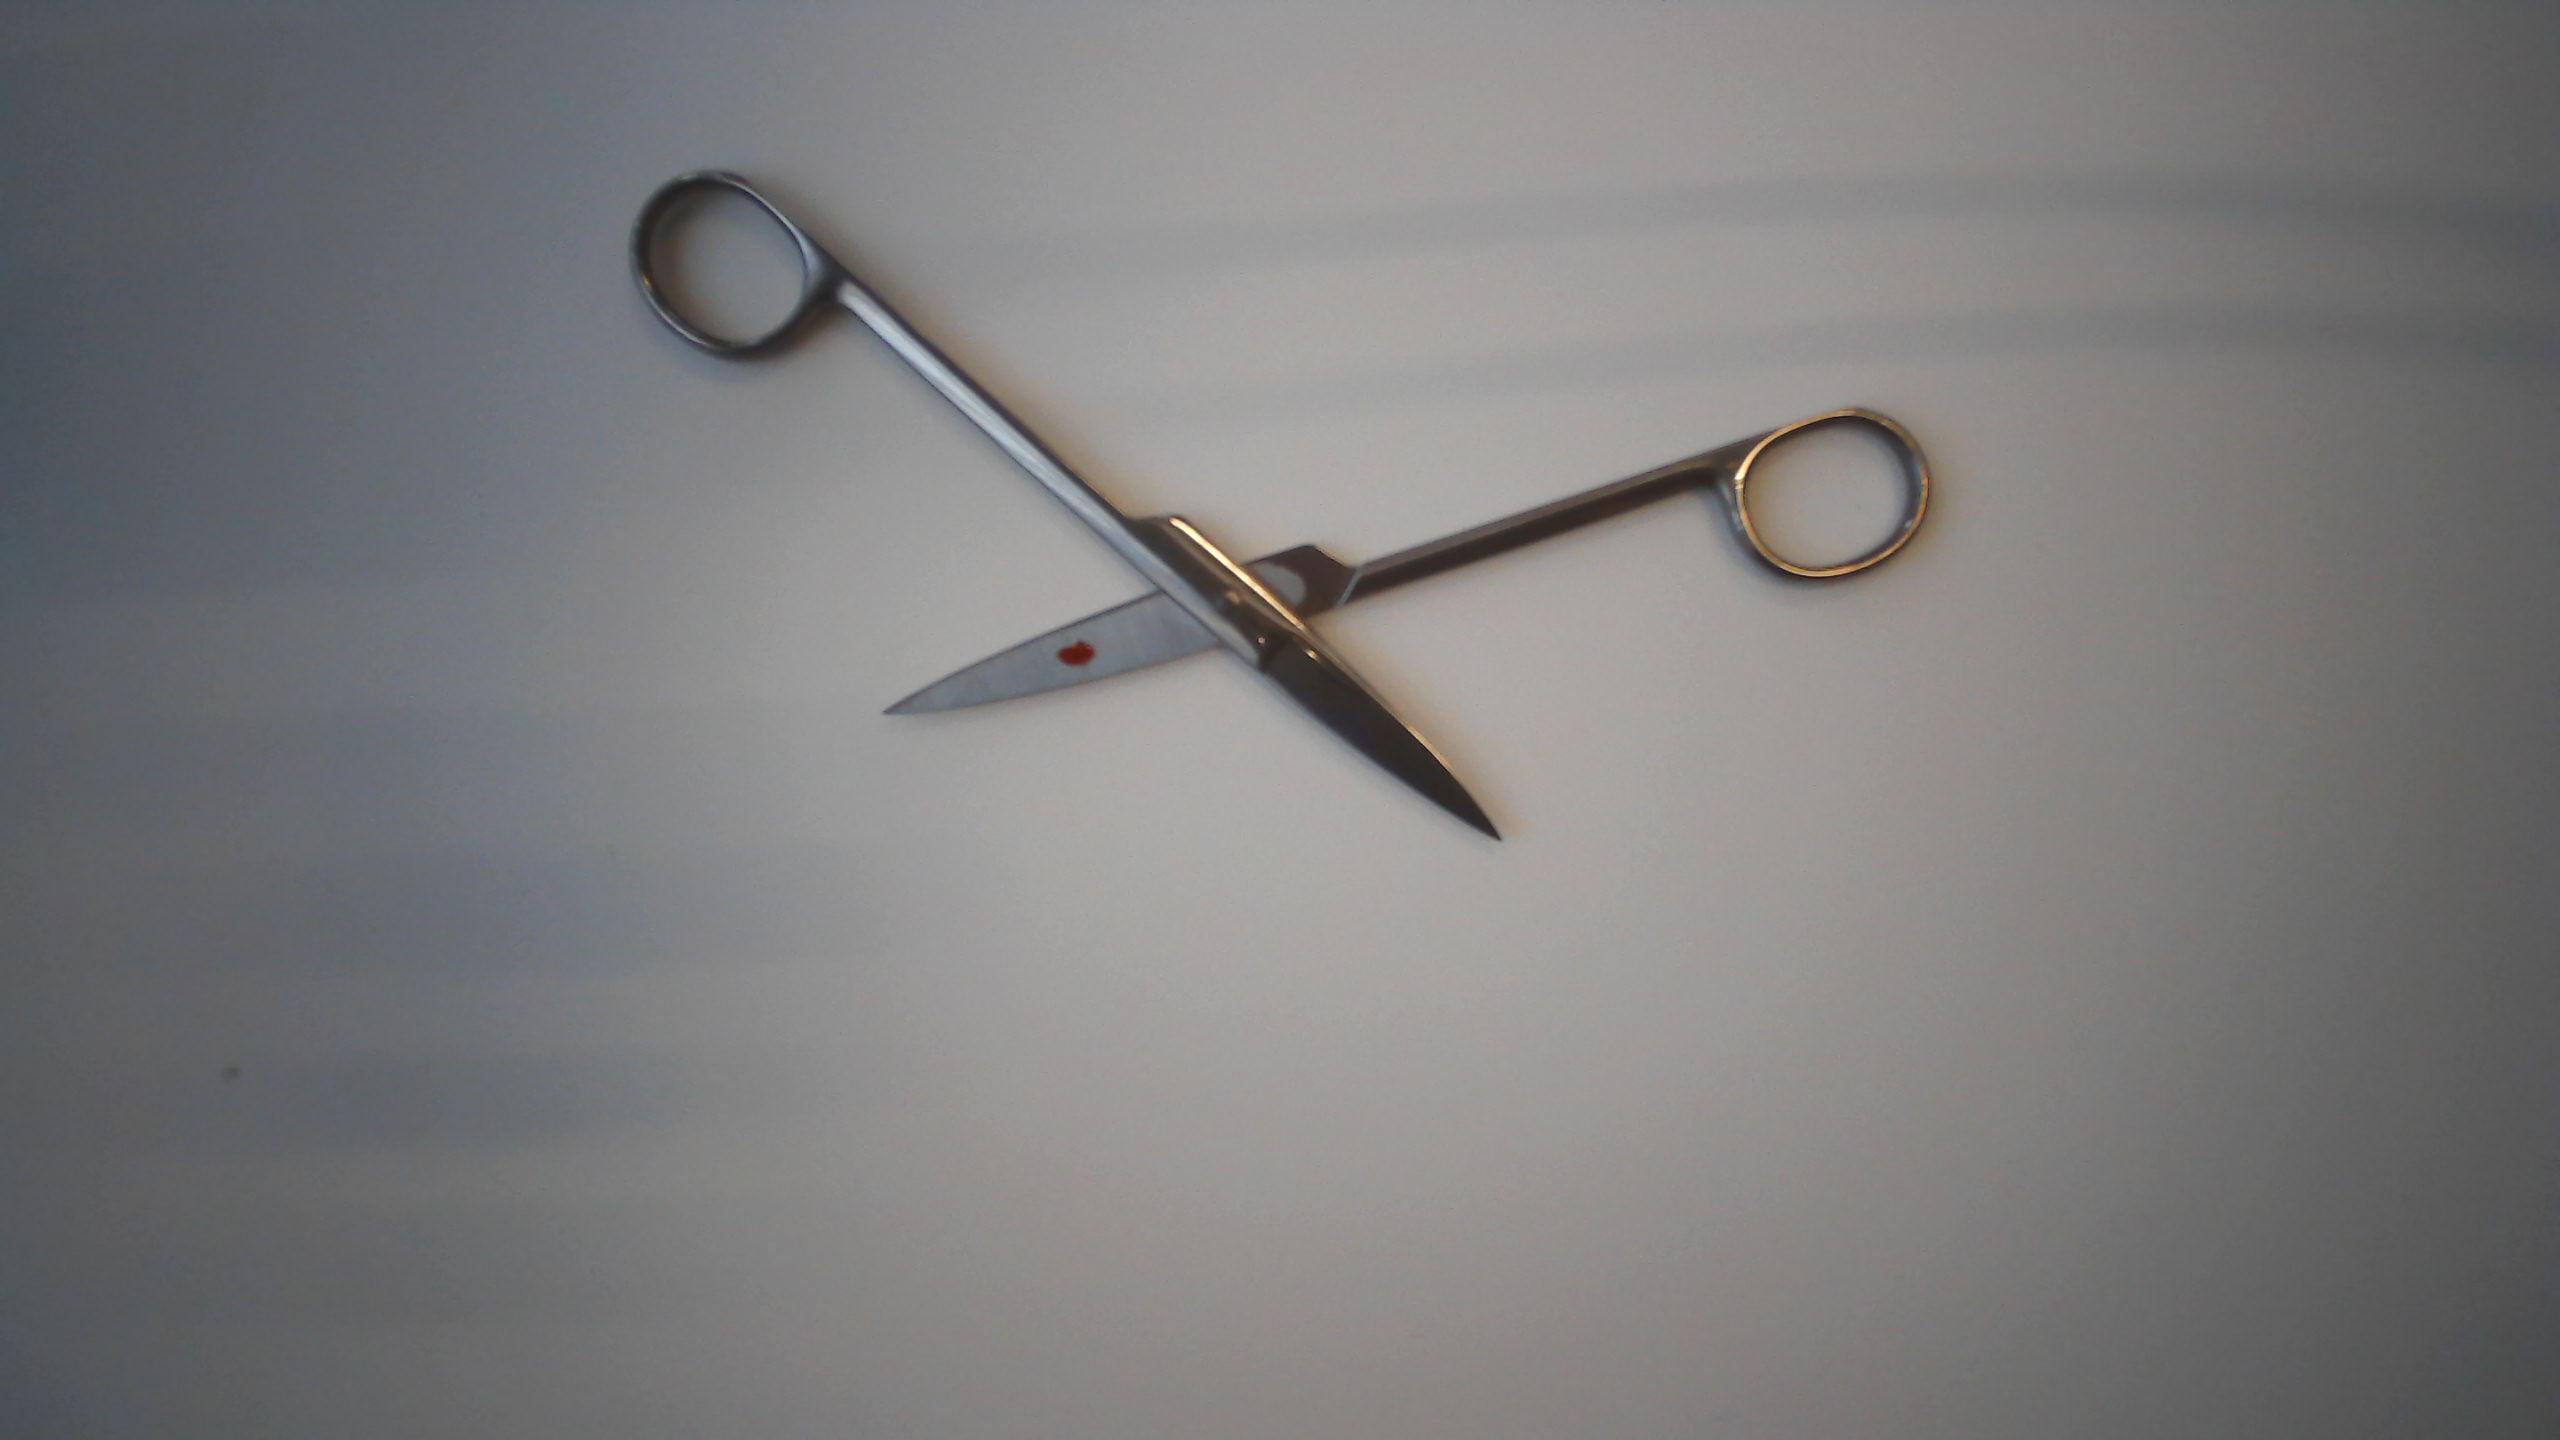Stain: (1050, 633, 1104, 672)
